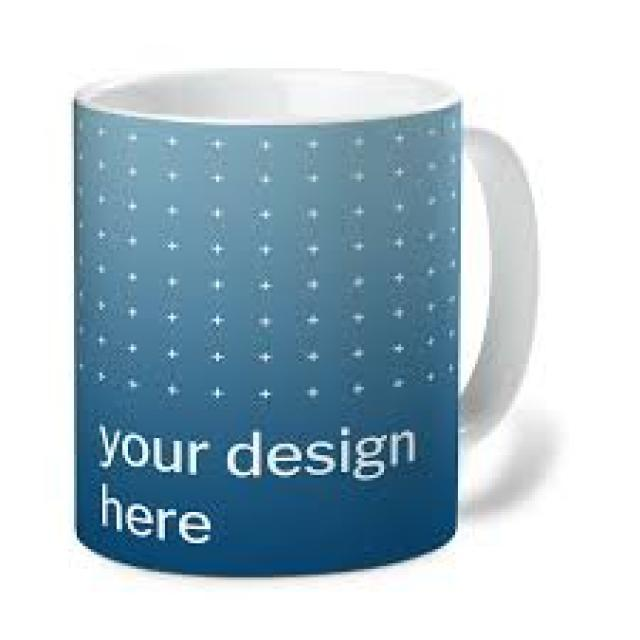taza: (72, 65, 540, 579)
